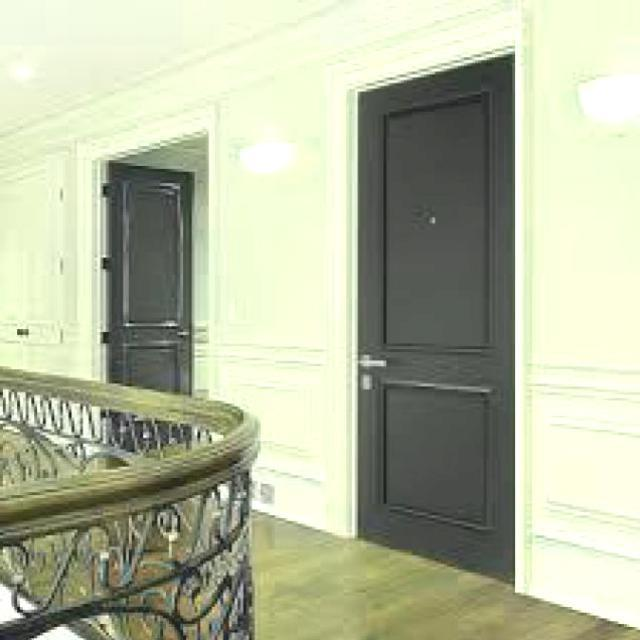door: (354, 52, 516, 584)
